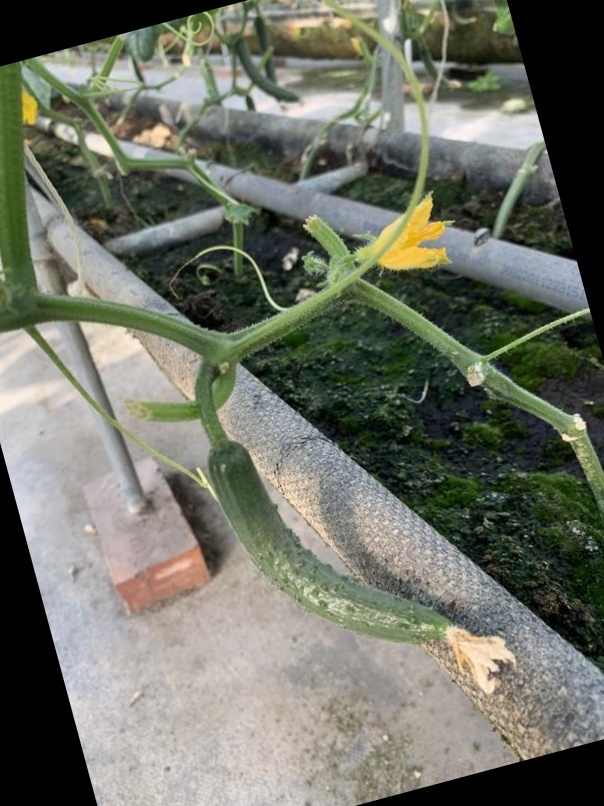growth: (199, 431, 513, 658)
